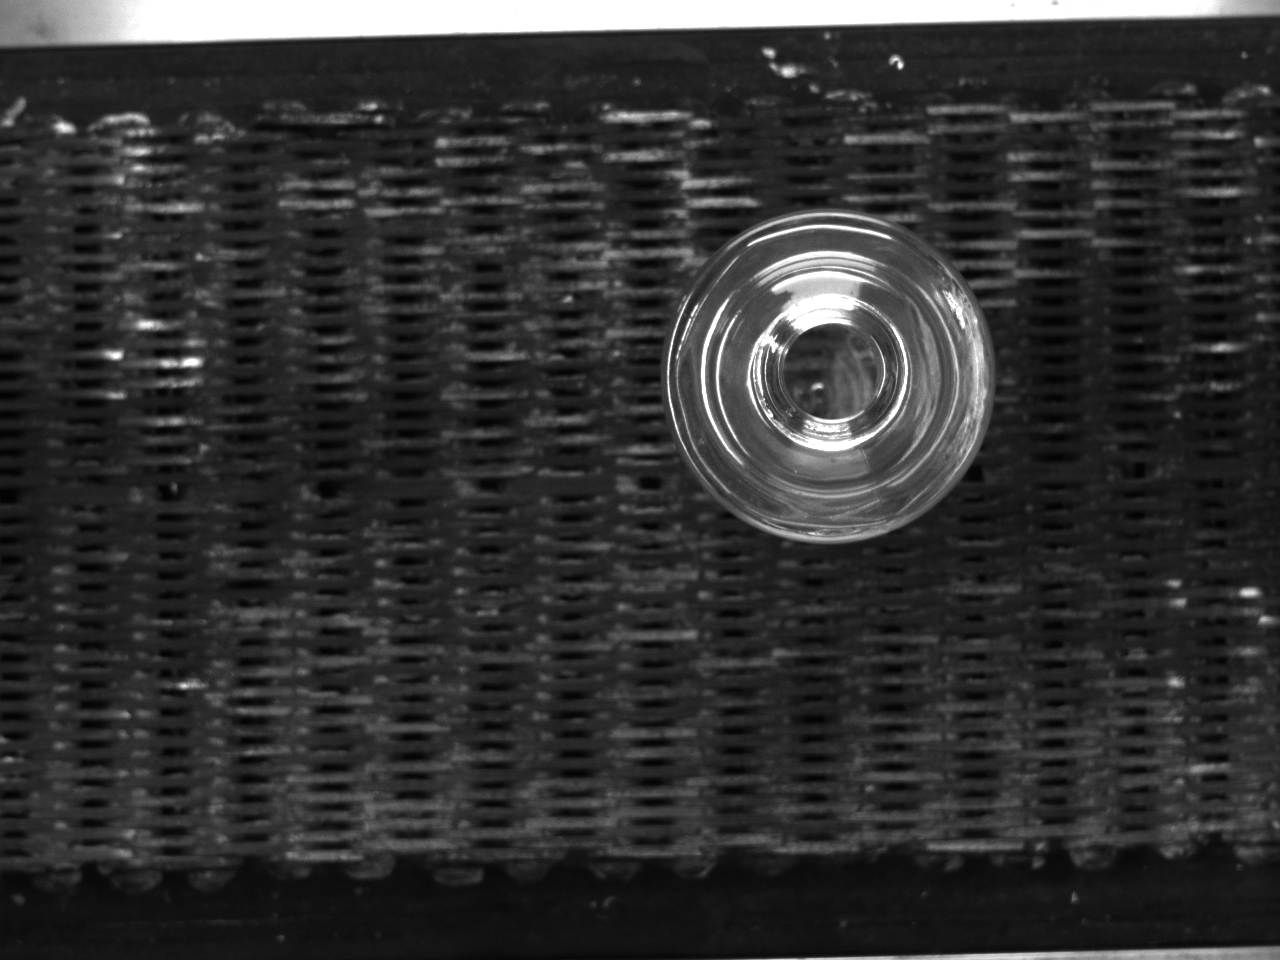bottleneck: (753, 293, 909, 453)
